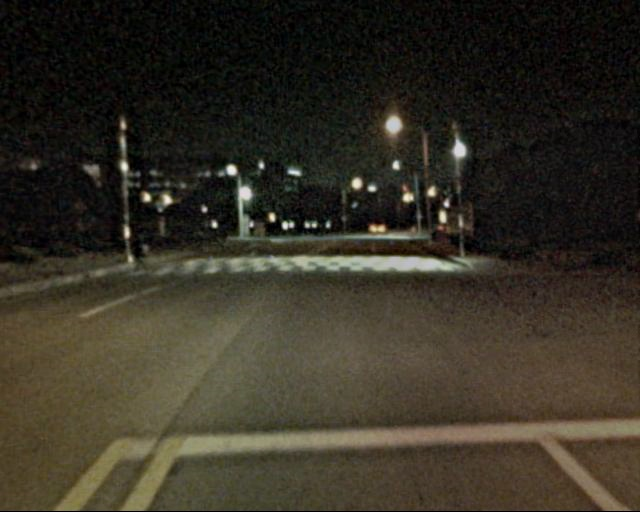person: (128, 225, 154, 274)
